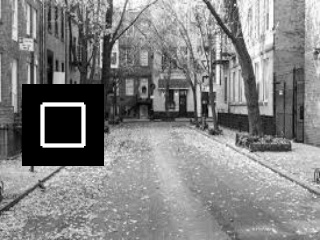square: (22, 84, 104, 166)
